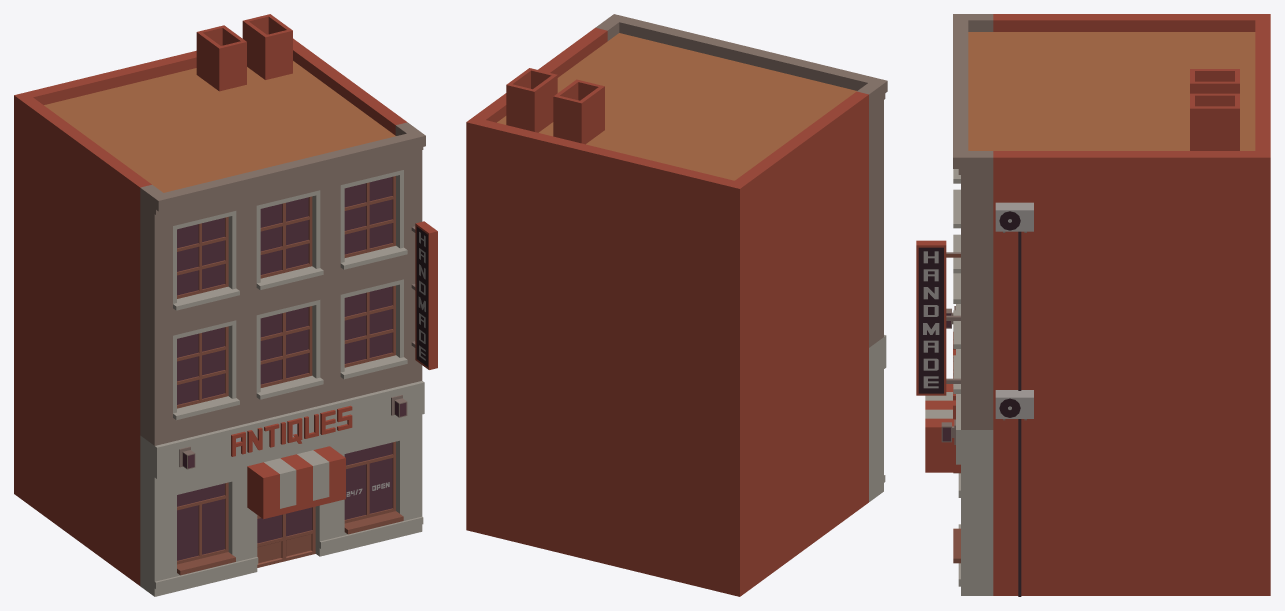
Rendered from Building_14.fbx.
The picture shows the model from 3 angles, left to right: view 1: azimuth 30°, elevation 25°; view 2: azimuth 150°, elevation 25°; view 3: azimuth 270°, elevation 25°; orthographic projection. The views are drawn at different scales.
Visible parts, largest first — view 1: Building_14, Building_14LP; view 2: Building_14; view 3: Building_14, Building_14LP.
Boxes of the visible parts, <box> form: Building_14: <box>14,14,437,596</box>; Building_14LP: <box>177,177,425,560</box>; Building_14: <box>466,14,887,596</box>; Building_14: <box>916,14,1270,596</box>; Building_14LP: <box>923,251,955,441</box>.
Size of the model in its own units: 8.77 by 12.84 by 8.7.
